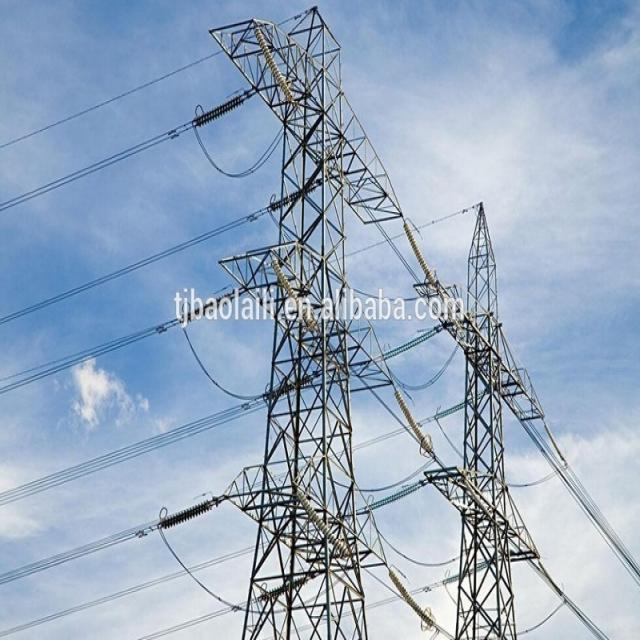non-critical vegetation: (171, 18, 402, 632), (435, 195, 527, 632)
